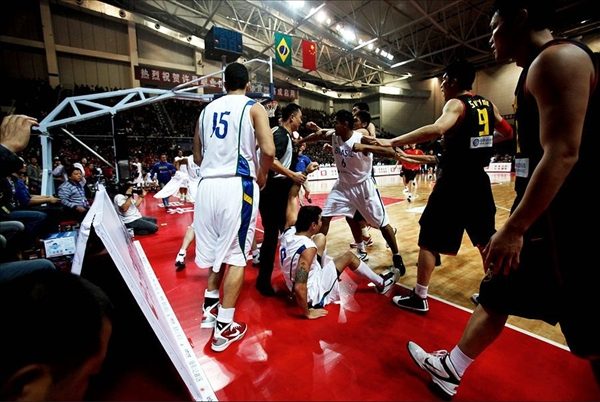10+: (1, 1, 599, 400)
down: (275, 197, 402, 325)
